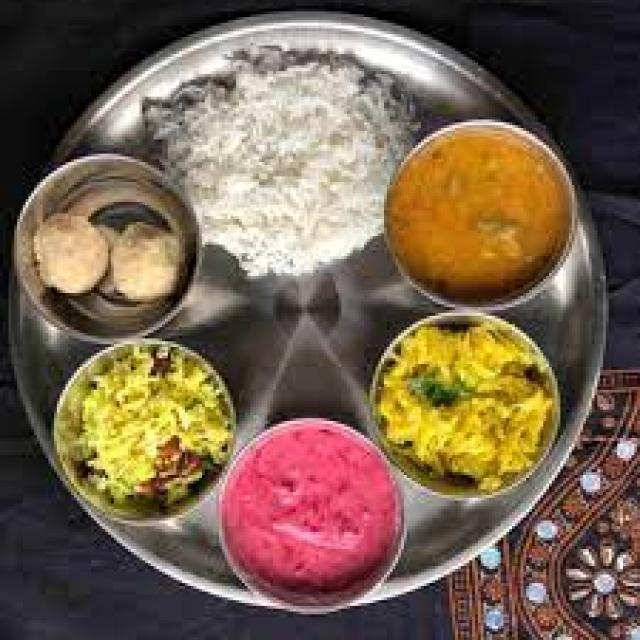rice: (186, 63, 387, 301)
sweet: (20, 182, 206, 310)
veg-fry: (376, 318, 551, 488), (66, 353, 216, 512)
